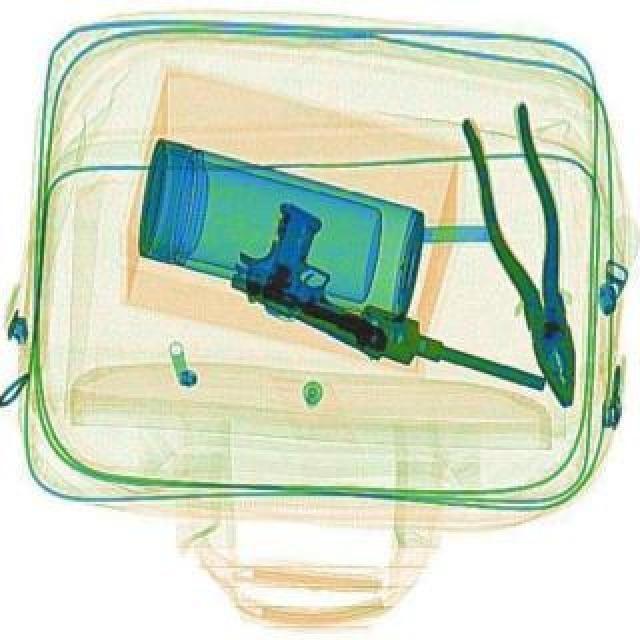gun: (222, 190, 438, 362)
wrench: (458, 98, 610, 412)
